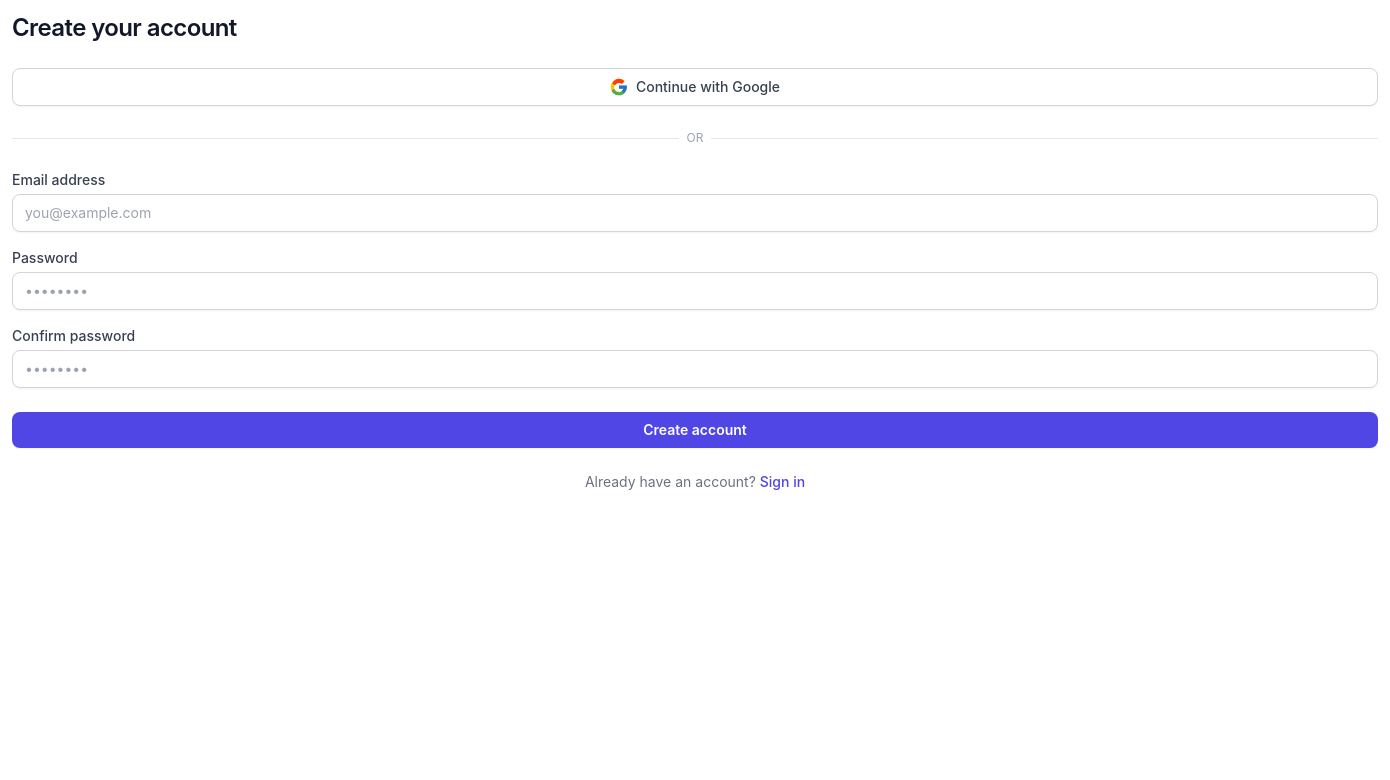
Test case: RegisterPage › shows error for already registered email
Type "test@example.com" into the field labelled "Email address" at (695, 213), box left=12, top=194, right=1378, bottom=232
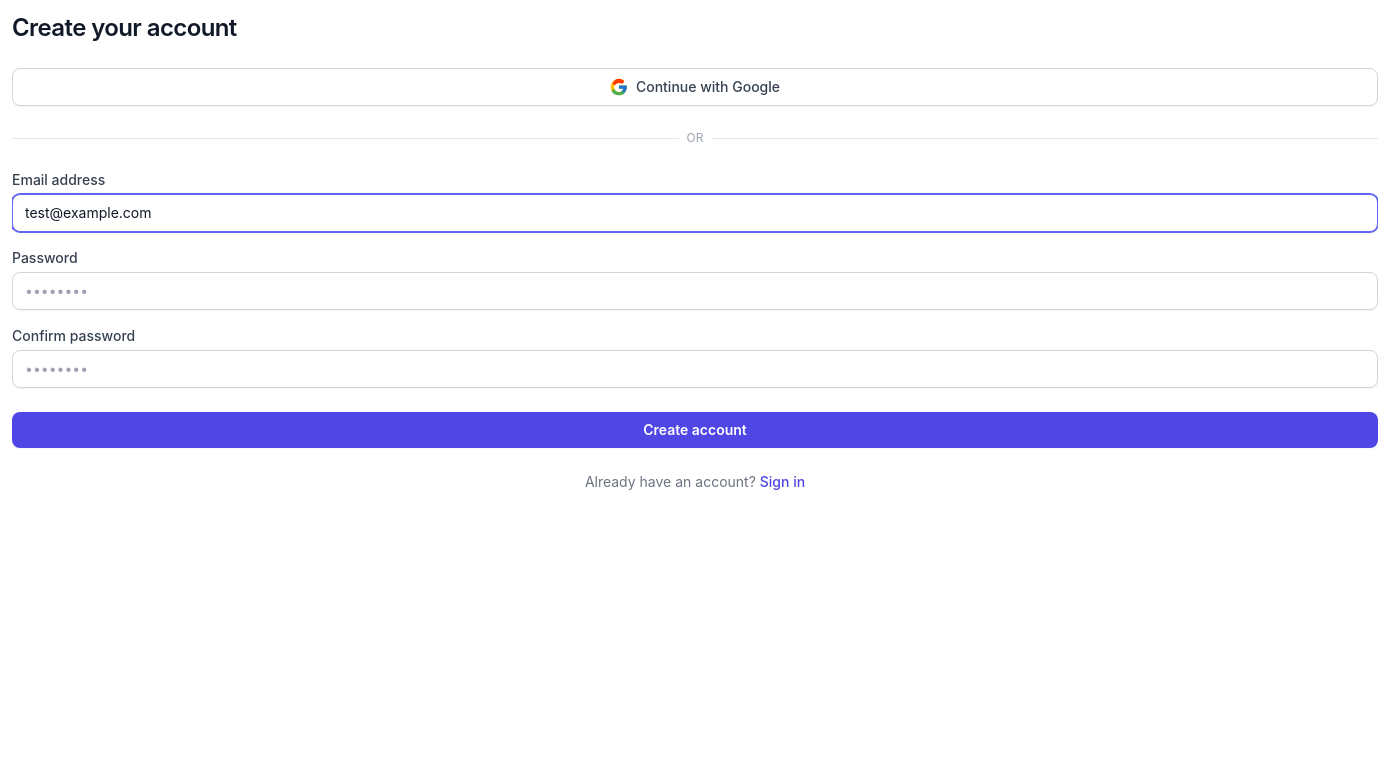
Type "TestPass1!" into the password field labelled "Password" at (695, 291), box left=12, top=272, right=1378, bottom=310
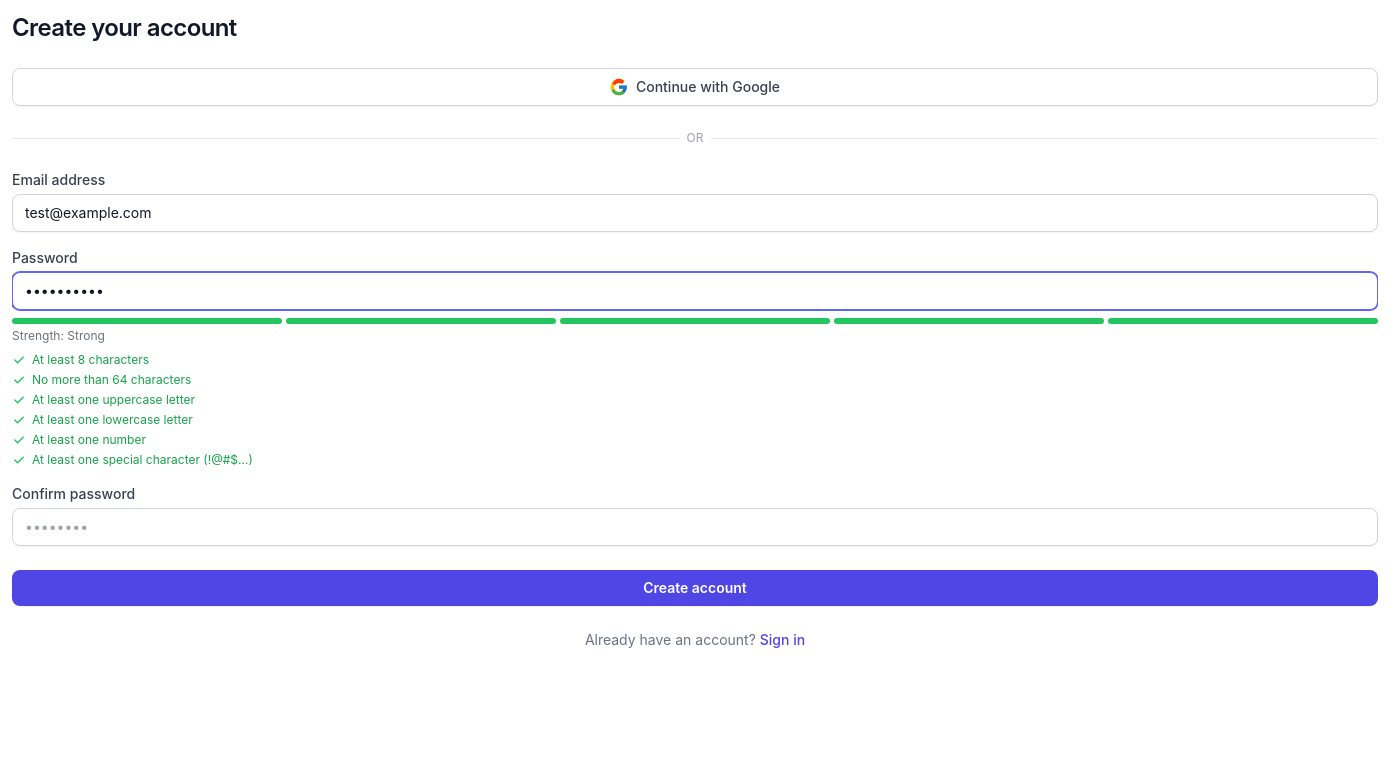
Type "TestPass1!" into the password field labelled "Confirm password" at (695, 527), box left=12, top=508, right=1378, bottom=546
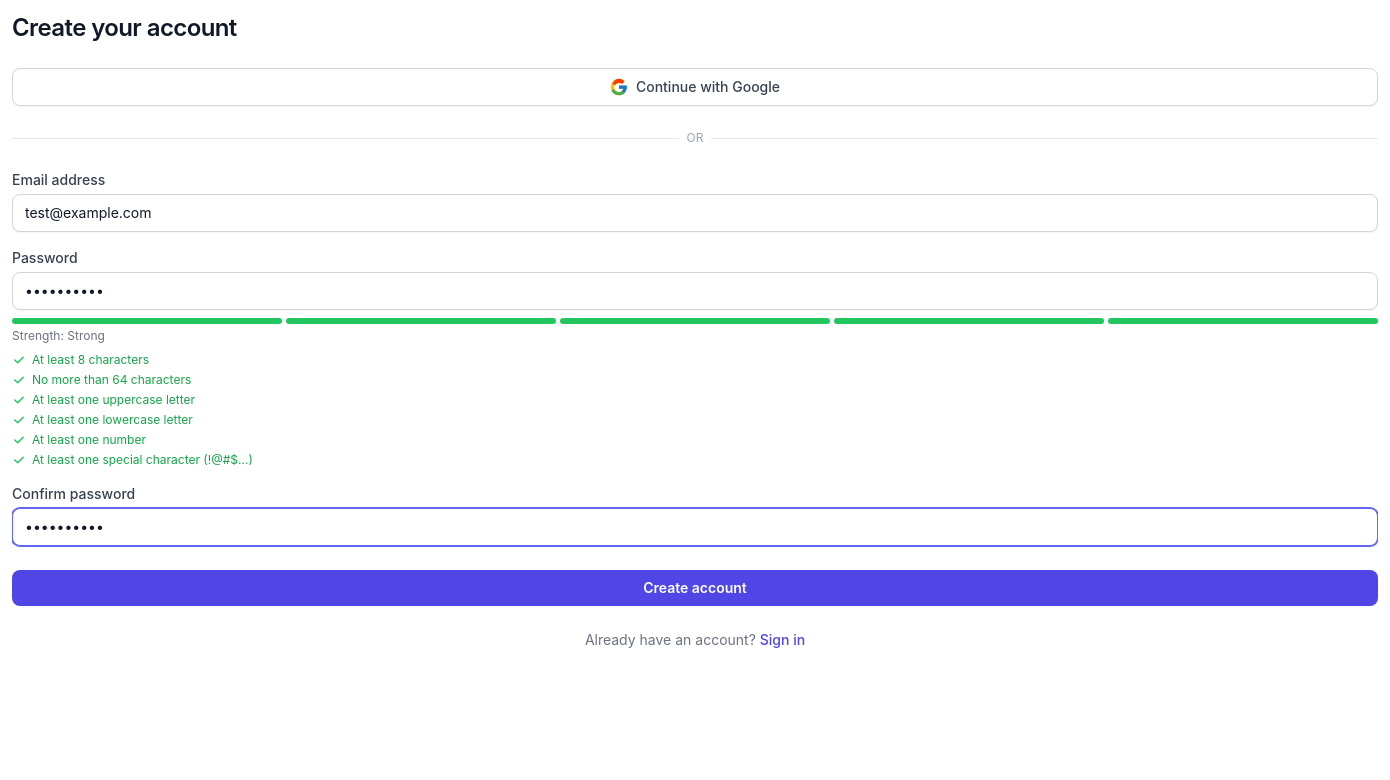
Click the button "Create account" at (695, 588), box left=12, top=570, right=1378, bottom=606
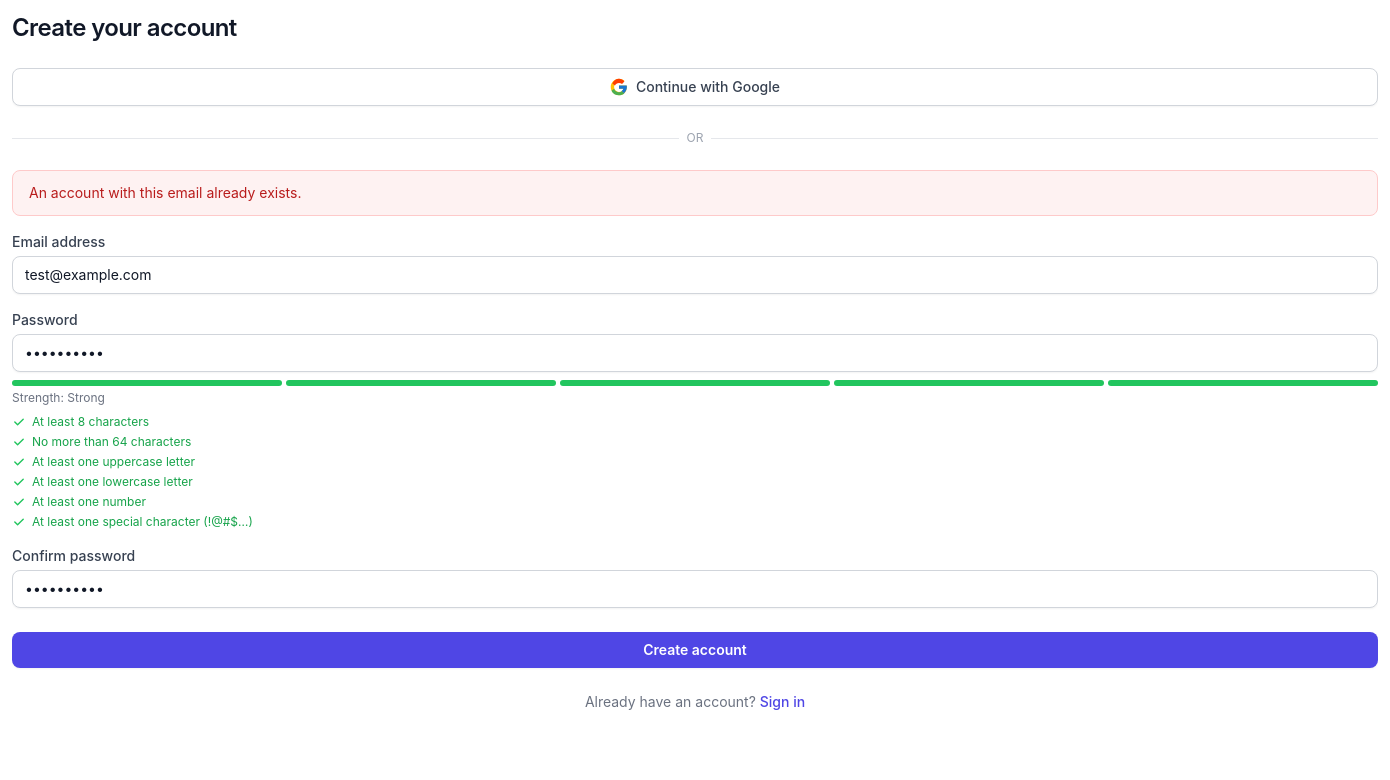
Result: the message shows "already exists" at left=29, top=184, right=302, bottom=201
